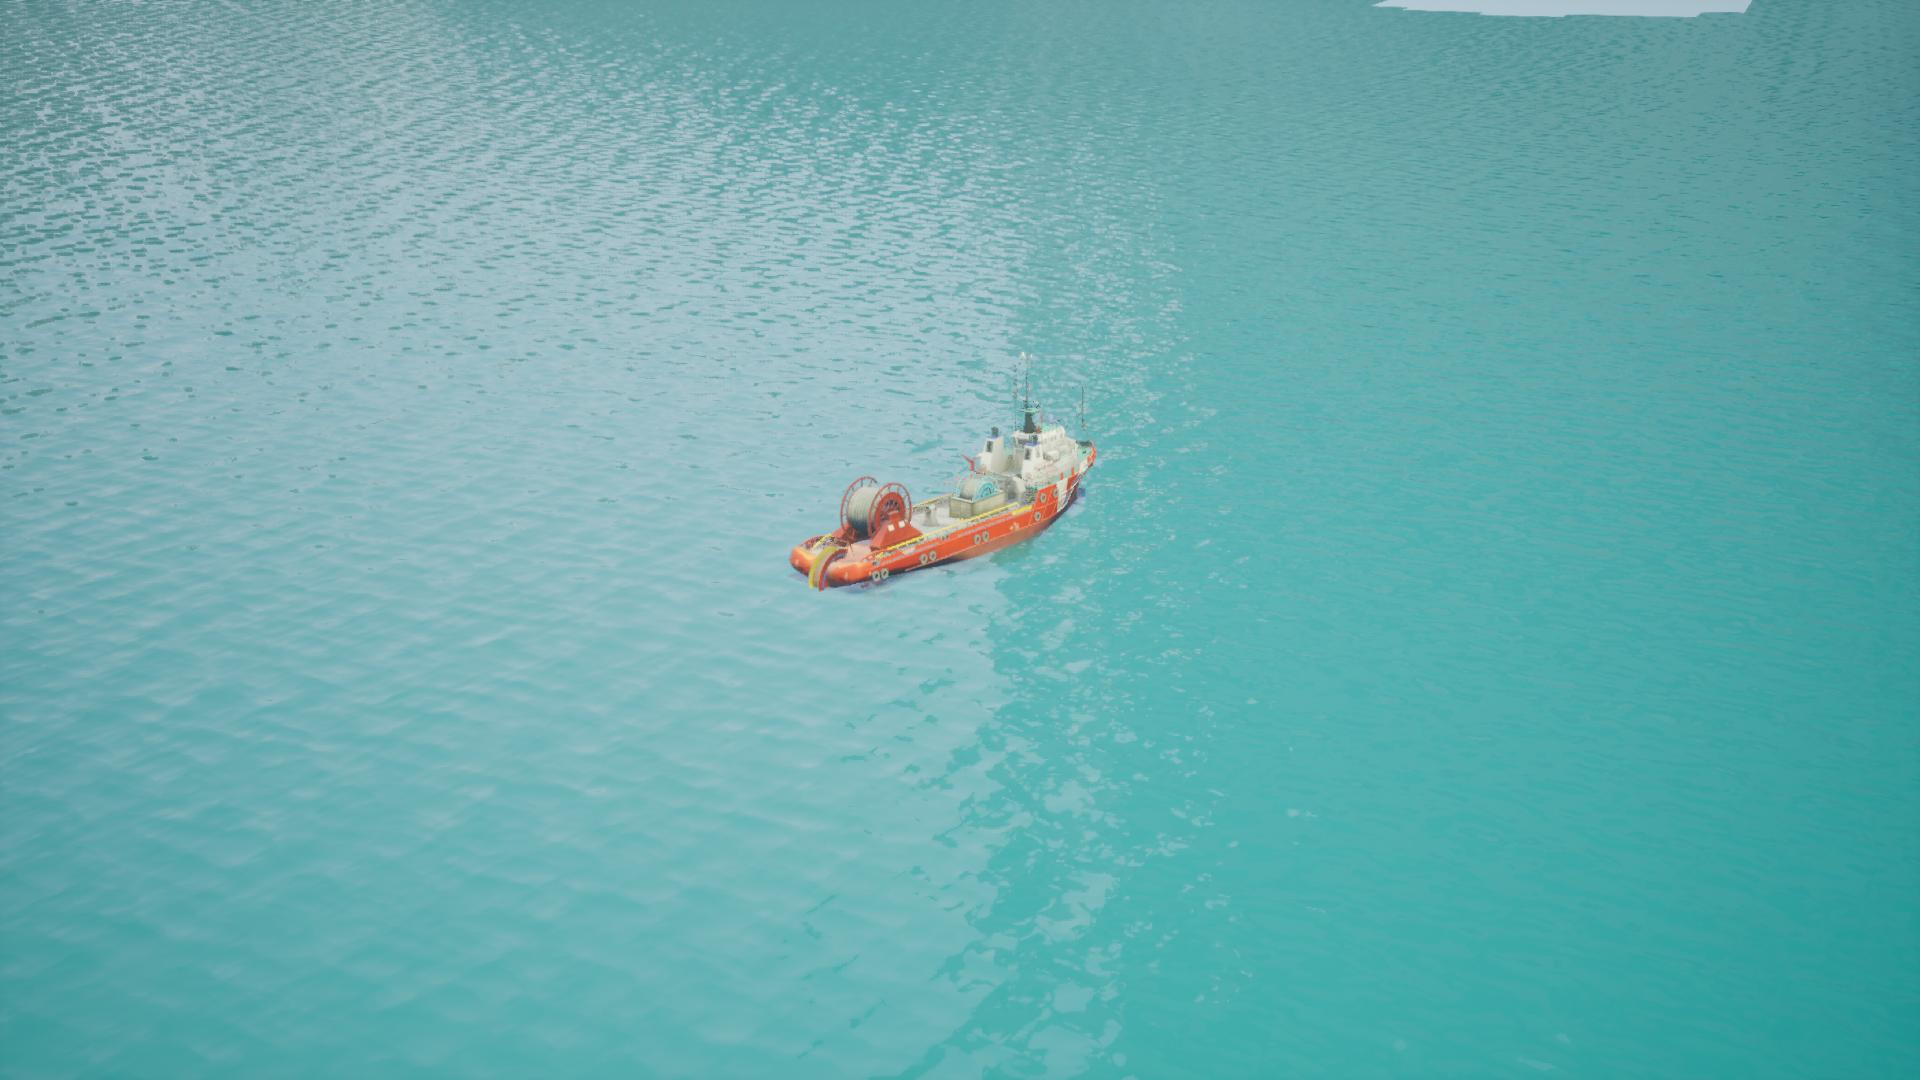Tug Boat: (793, 423, 1092, 592)
